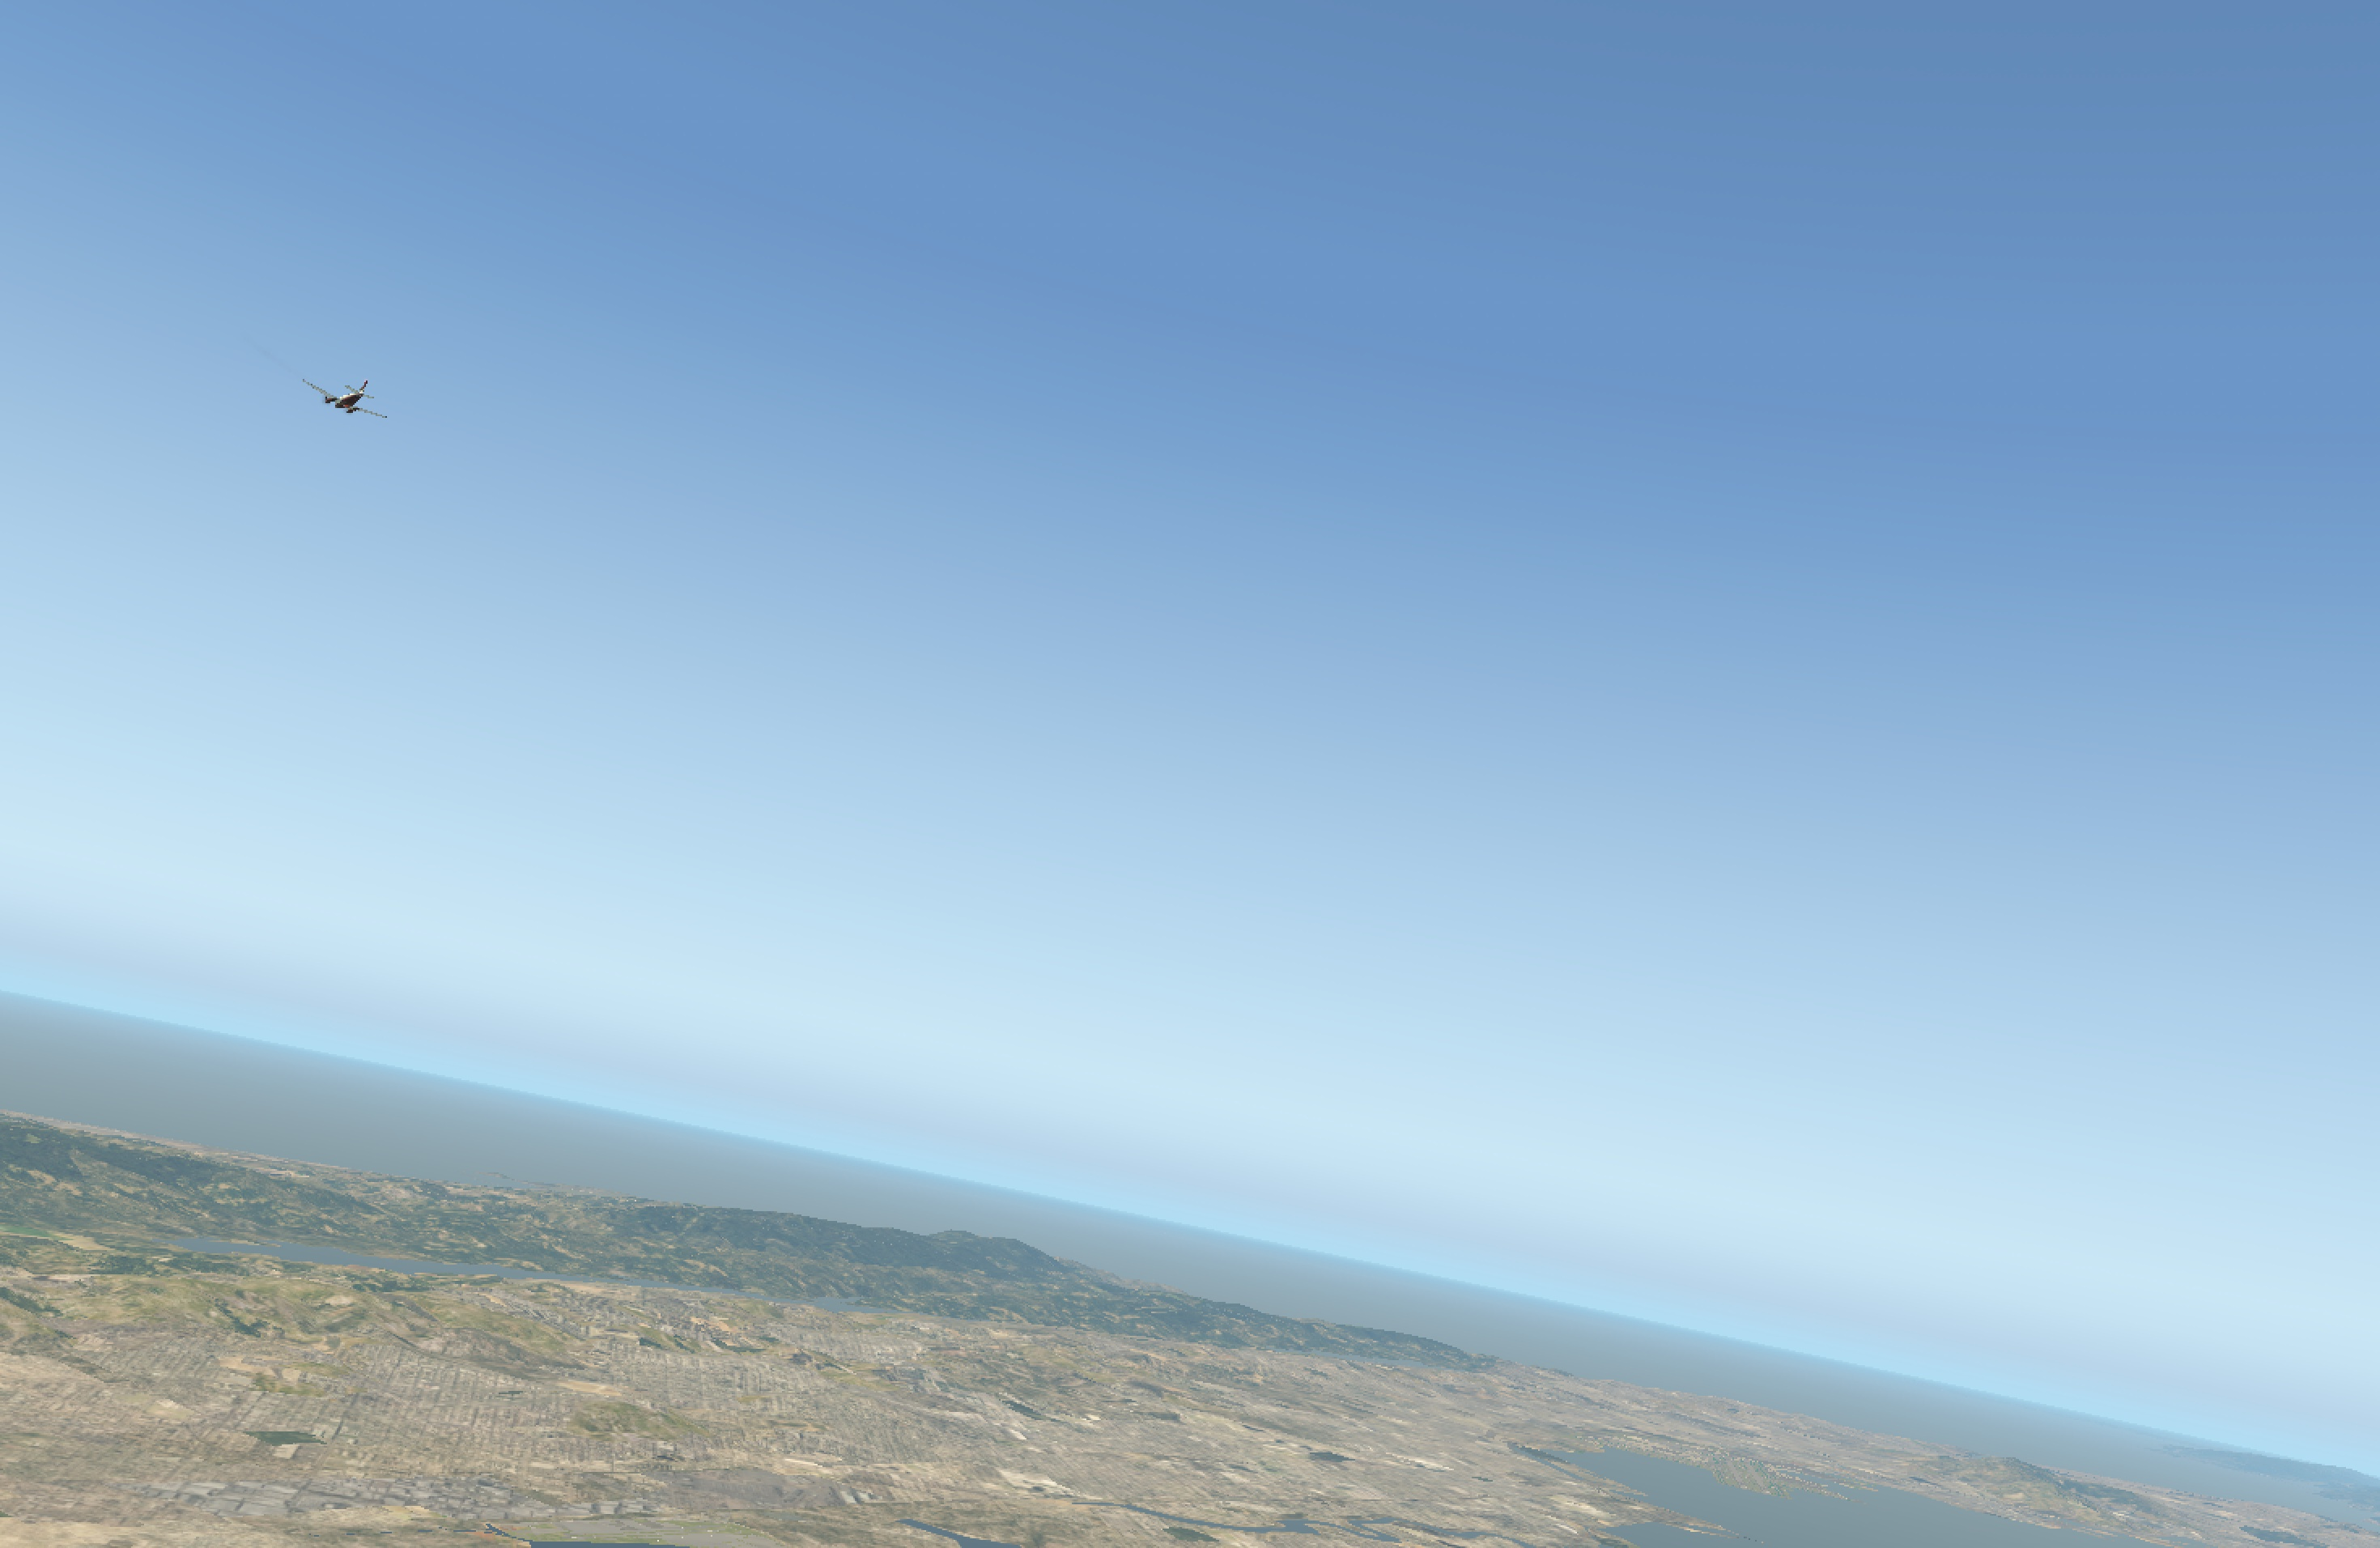aircraft: (302, 389, 385, 422)
